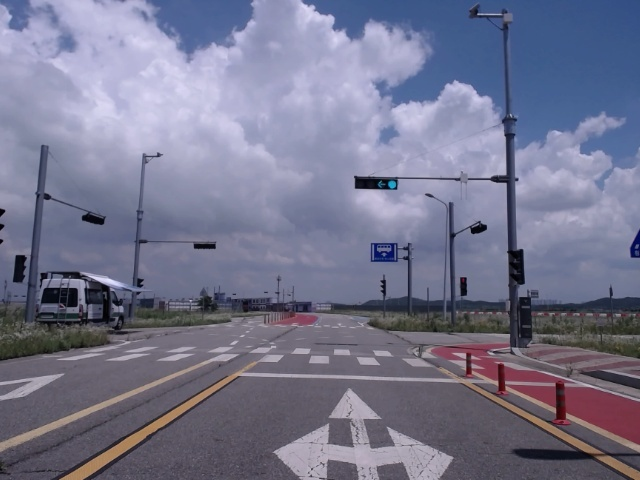all_green_4: (354, 176, 399, 190)
